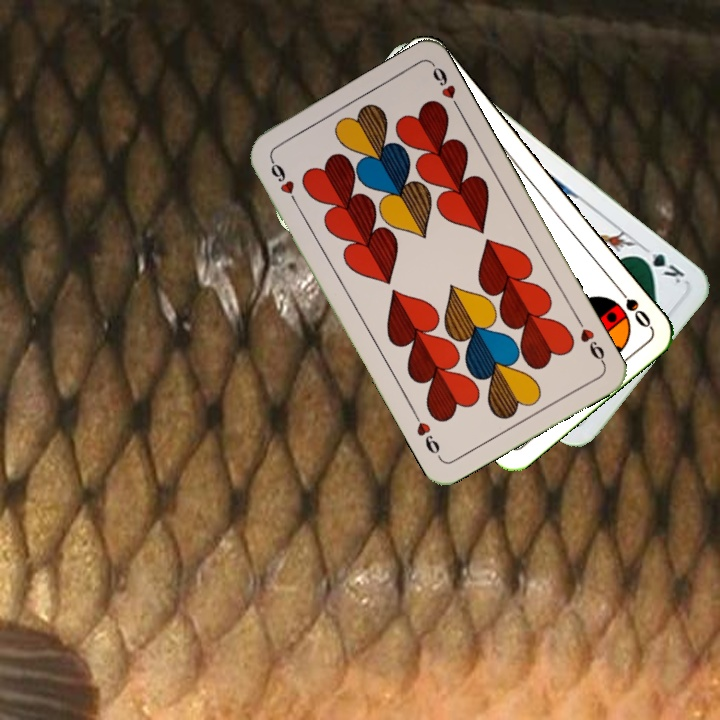GK: (633, 242, 687, 287)
H9: (572, 314, 608, 368), (266, 154, 301, 209)
SO: (611, 280, 654, 331)
